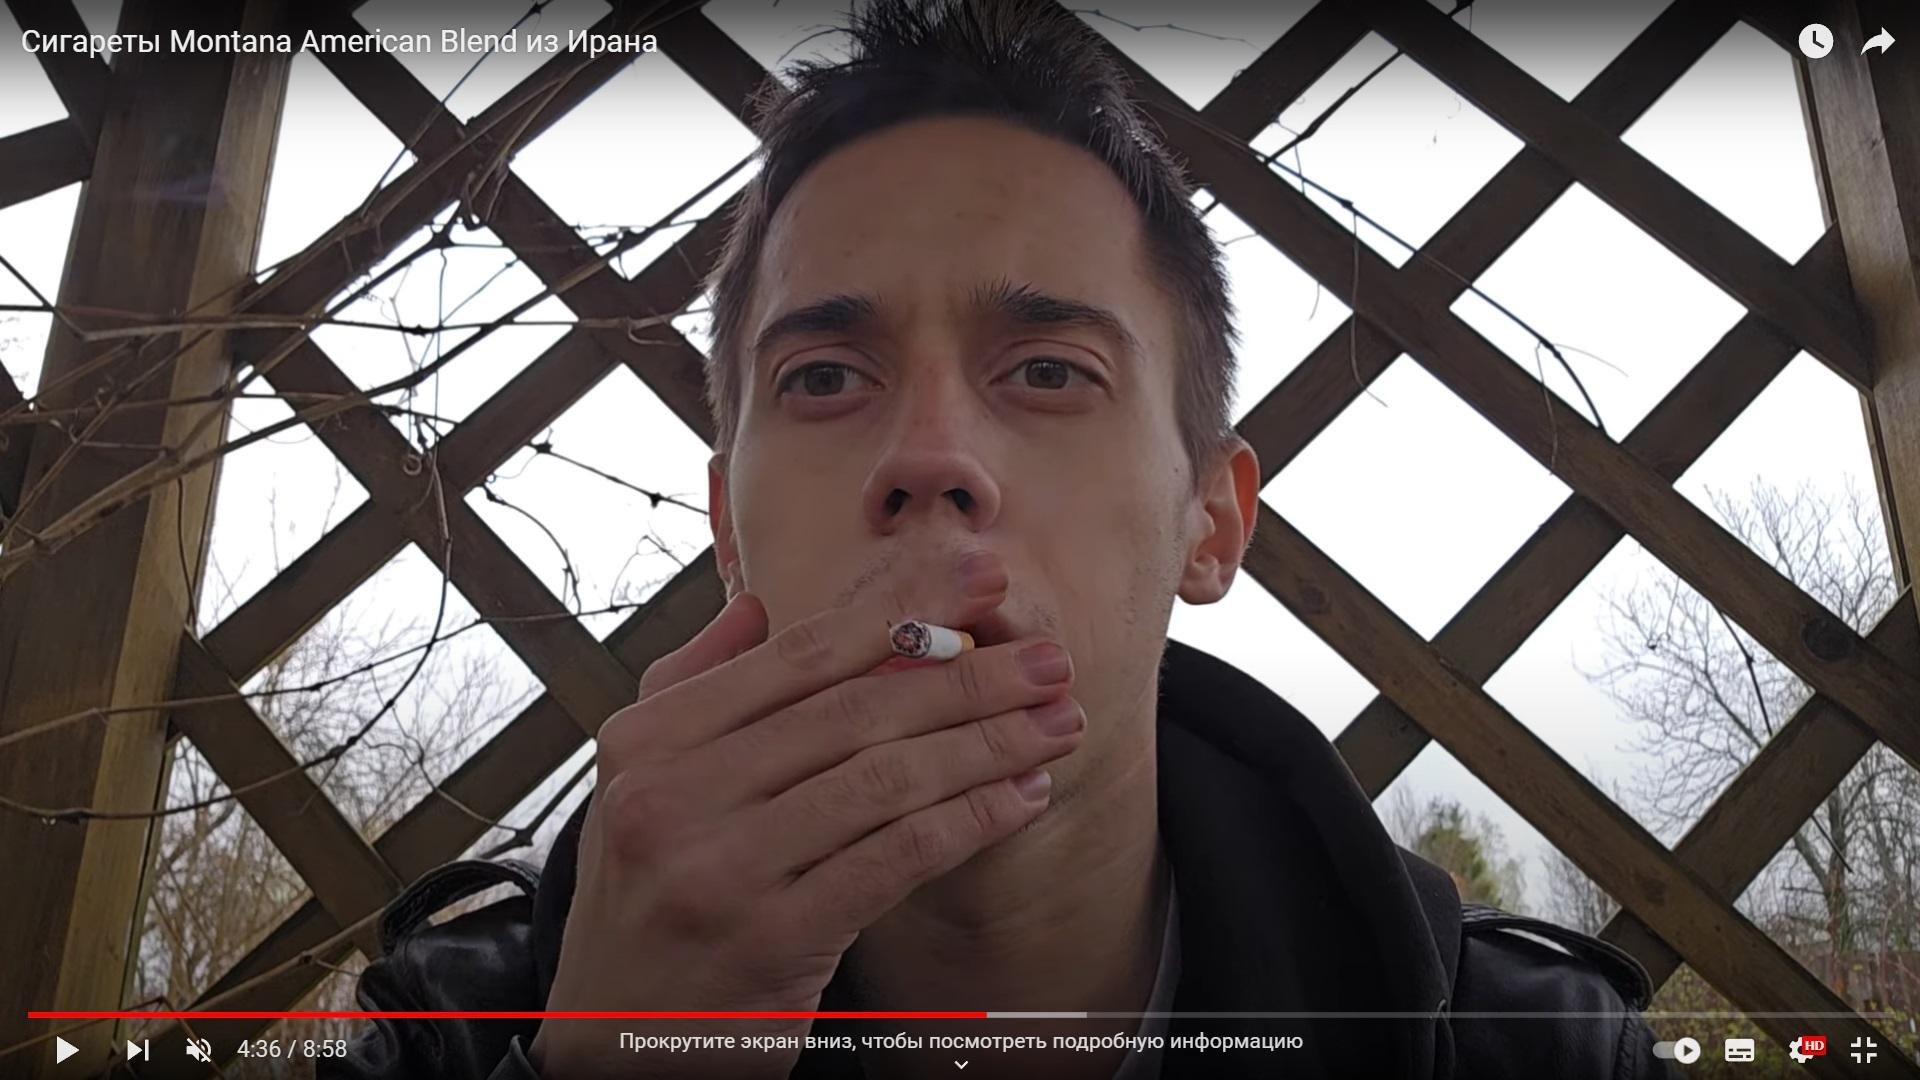cigarette: (889, 618, 975, 661)
